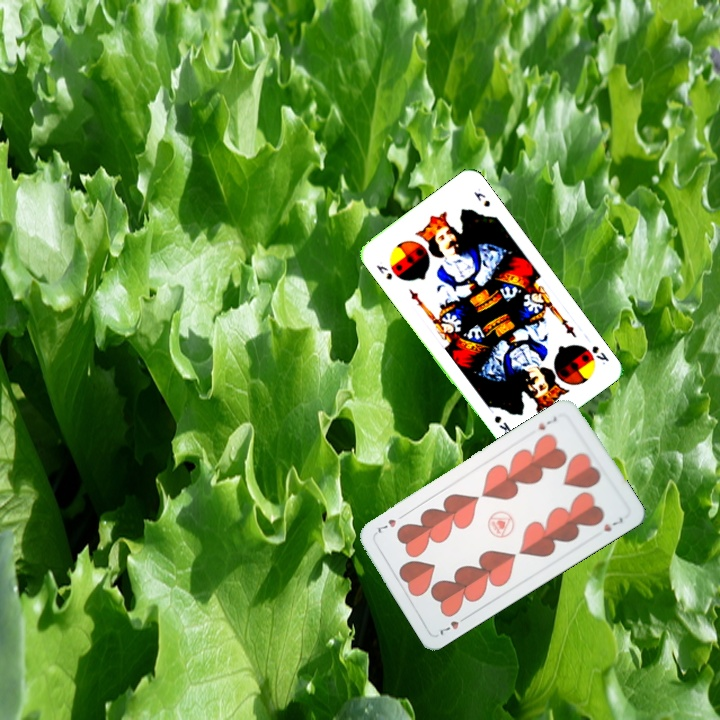H7: (436, 612, 471, 638), (534, 412, 559, 433)
SK: (588, 341, 612, 367), (372, 261, 395, 282)
